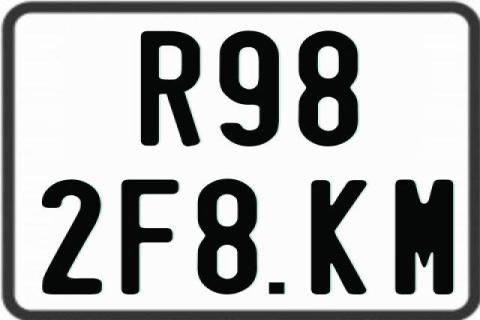0: (41, 180, 107, 298), (196, 177, 260, 295), (216, 31, 278, 147), (295, 28, 356, 144)
F: (121, 178, 180, 294)
K: (309, 180, 368, 296)
M: (392, 178, 450, 296)
R: (140, 31, 200, 147)
